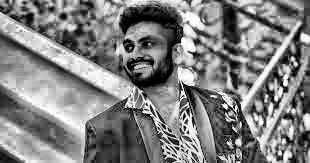happy: (119, 8, 177, 88)
